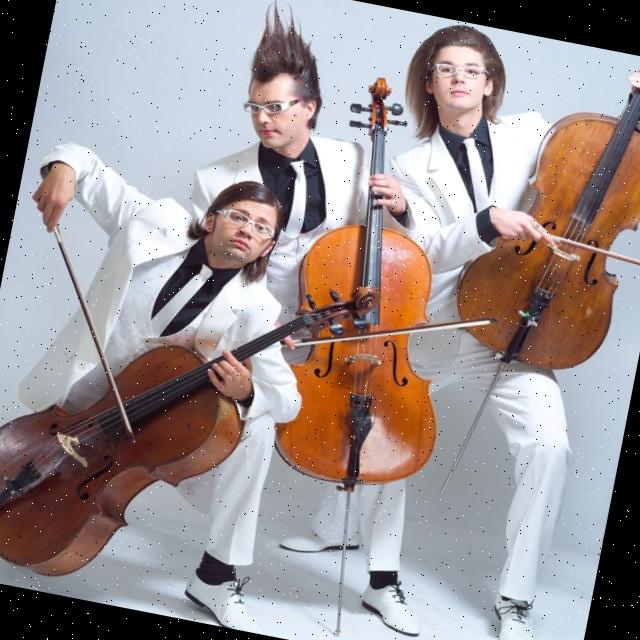cello: (0, 218, 380, 627), (257, 68, 503, 497), (444, 31, 640, 386)
